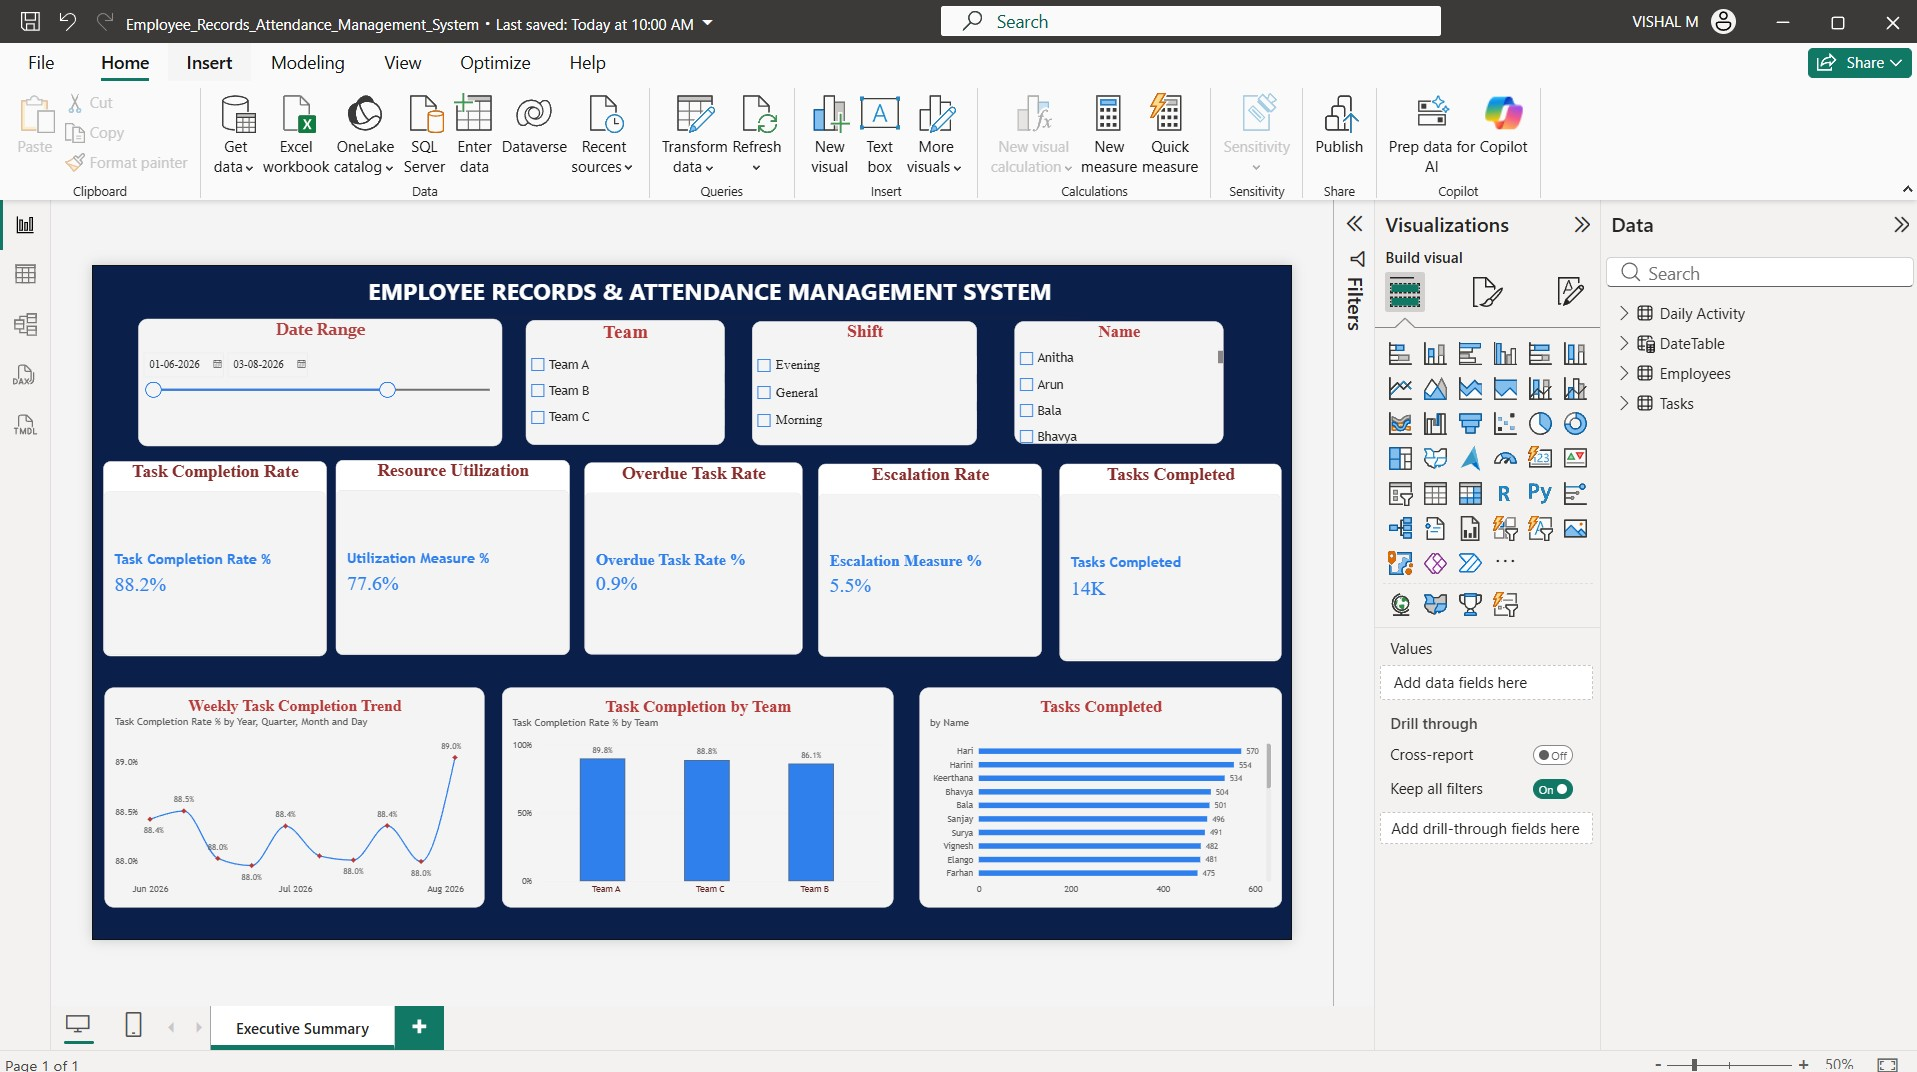

Layout of this report page (visuals, bound fields, positions):
{"tool":"powerbi","page":{"name":"Executive Summary","canvas":[1920,1080],"ordinal":0},"visuals":[{"type":"cardVisual","title":"Task Completion Rate","fields":{"Data":["Daily Activity.Task Completion Rate %"]},"box":[0,271.7,357.2,311.8],"z":0},{"type":"cardVisual","title":"Resource Utilization","fields":{"Data":["Daily Activity.Utilization Measure %"]},"box":[376.6,275.4,374.6,307.4],"z":1000},{"type":"cardVisual","title":"Overdue Task Rate","fields":{"Data":["Daily Activity.Overdue Task Rate %"]},"box":[785,277.3,348.6,307.4],"z":2000},{"type":"cardVisual","title":"Escalation Rate","fields":{"Data":["Daily Activity.Escalation Measure %"]},"box":[1161.6,275.4,357.8,309.1],"z":3000},{"type":"cardVisual","title":"Tasks Completed","fields":{"Data":["Daily Activity.Tasks Completed"]},"box":[1564.4,275.4,355.1,316.1],"z":4000},{"type":"lineChart","title":"Weekly Task Completion Trend","fields":{"Category":["DateTable.Week Start.Variation.Date Hierarchy.Year","DateTable.Week Start.Variation.Date Hierarchy.Quarter","DateTable.Week Start.Variation.Date Hierarchy.Month","DateTable.Week Start.Variation.Date Hierarchy.Day"],"Y":["Daily Activity.Task Completion Rate %"]},"box":[74.9,620.1,627.6,459],"z":5000},{"type":"clusteredColumnChart","title":"Task Completion by Team","fields":{"Category":["Employees.Team"],"Y":["Daily Activity.Task Completion Rate %"]},"box":[1084.8,620.1,657.6,459],"z":6000},{"type":"textbox","box":[376.6,0,1172.8,67.4],"z":7000},{"type":"slicer","fields":{"Values":["DateTable.Date"]},"box":[297.9,114.3,562.1,136.8],"z":8000},{"type":"slicer","fields":{"Values":["Employees.Team","Employees.Shift"]},"box":[1000.5,86.2,393.4,149.9],"z":9000}]}

Visuals, with their boxes on the page's 1920x1080 design canvas (x1, y1, x2, y2). These are canvas units, not pixel positions in the 1917x1072 screenshot, which may show the page scaled, cropped or inside an application window:
"Task Completion Rate" cardVisual: left=0, top=272, right=357, bottom=584
"Resource Utilization" cardVisual: left=377, top=275, right=751, bottom=583
"Overdue Task Rate" cardVisual: left=785, top=277, right=1134, bottom=585
"Escalation Rate" cardVisual: left=1162, top=275, right=1519, bottom=584
"Tasks Completed" cardVisual: left=1564, top=275, right=1920, bottom=592
"Weekly Task Completion Trend" lineChart: left=75, top=620, right=702, bottom=1079
"Task Completion by Team" clusteredColumnChart: left=1085, top=620, right=1742, bottom=1079
textbox: left=377, top=0, right=1549, bottom=67
slicer - DateTable.Date: left=298, top=114, right=860, bottom=251
slicer - Employees.Team x Employees.Shift: left=1000, top=86, right=1394, bottom=236
